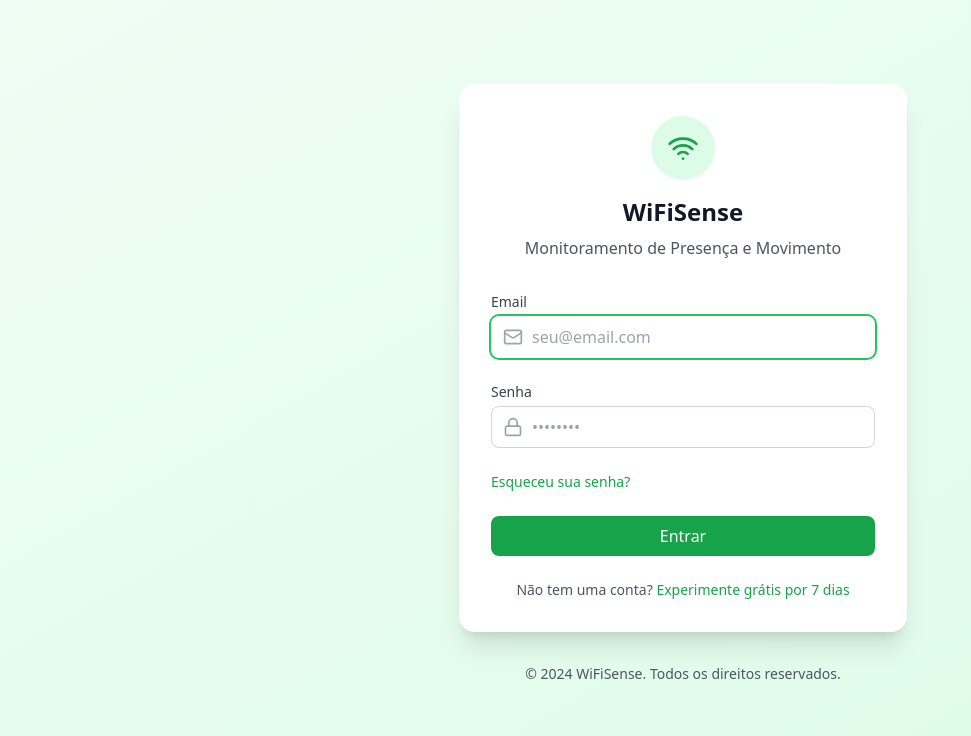
Test: LoginPage › deve exibir erro de credenciais inválidas
The image size is (971, 736).
Type "wrong@test.com" into the field labelled "Email" at (683, 337), box left=491, top=316, right=875, bottom=358
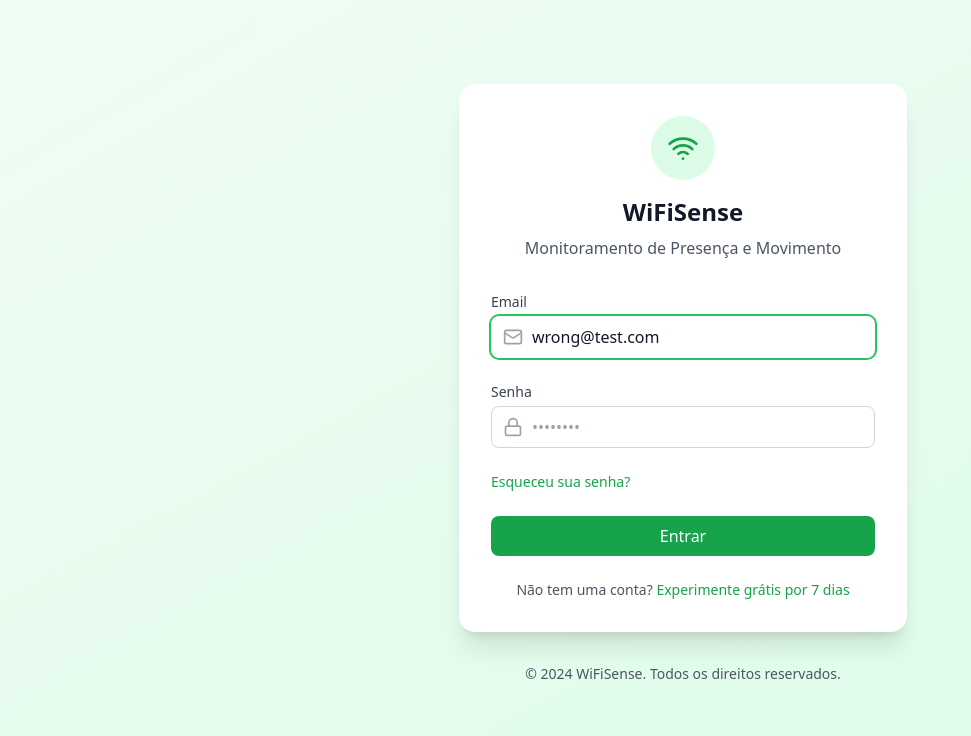
Type "wrongpassword" into the password field labelled "Senha" at (683, 427), box left=491, top=406, right=875, bottom=448
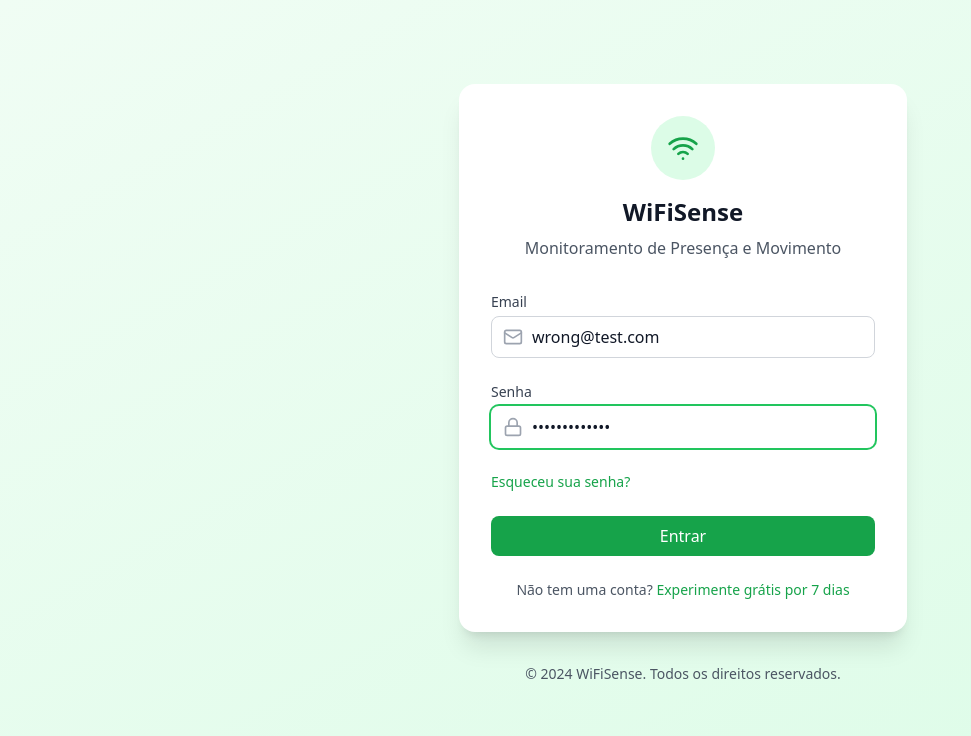
Click the button "Entrar" at (683, 536), box left=491, top=516, right=875, bottom=556
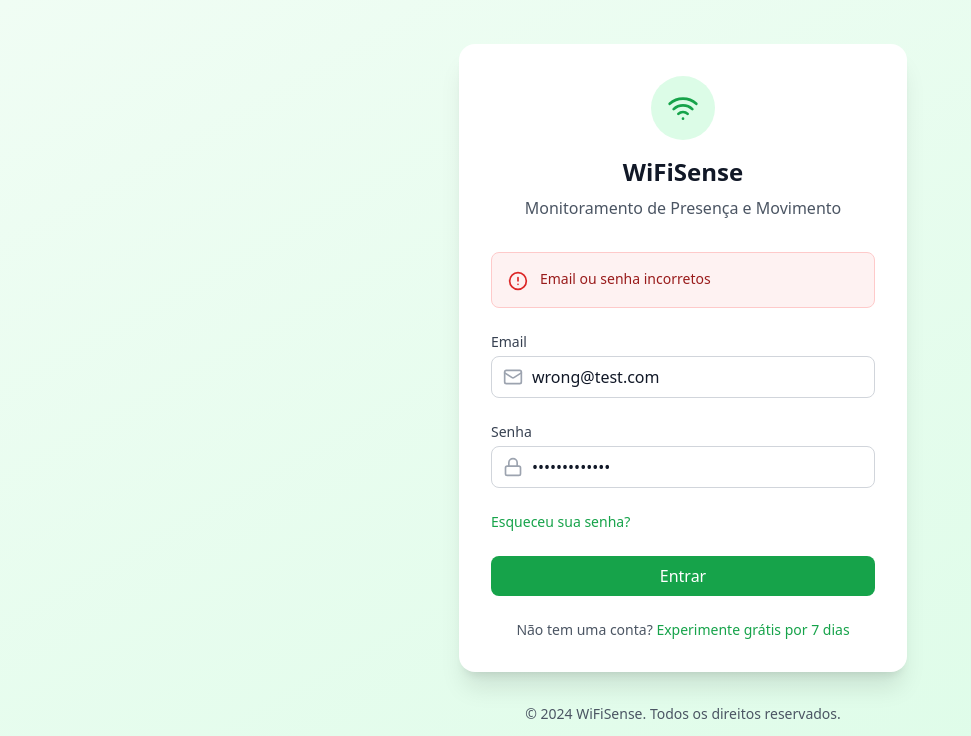
Result: the text "Email ou senha incorretos" is shown at left=540, top=269, right=711, bottom=289
